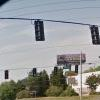Traffic light: (21, 13, 53, 45)
